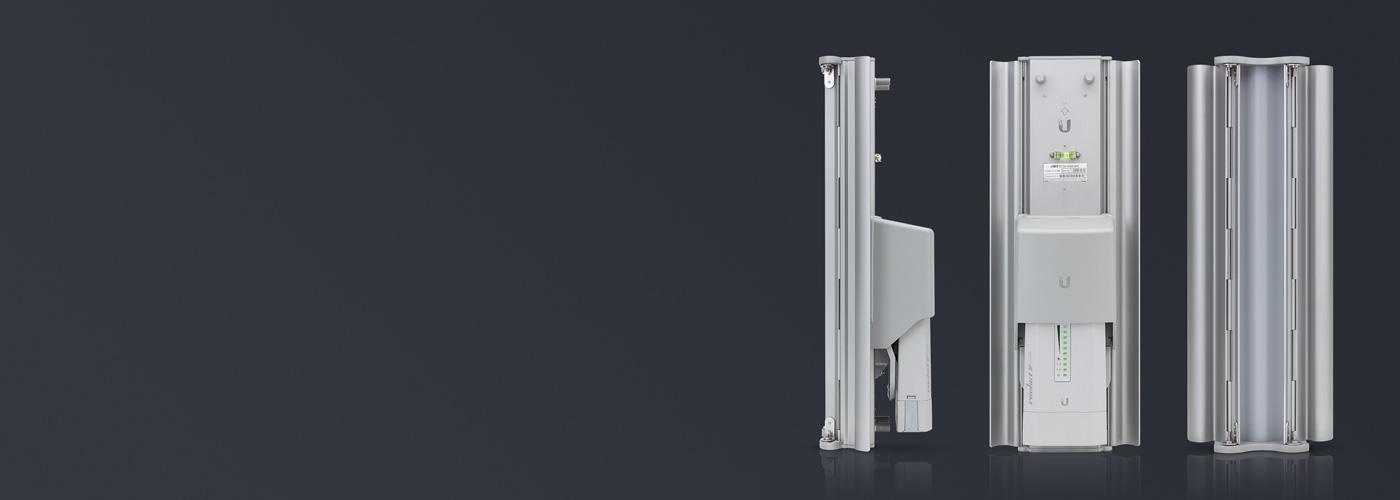sa: (974, 33, 1154, 449), (1181, 45, 1360, 452), (794, 38, 920, 479)
